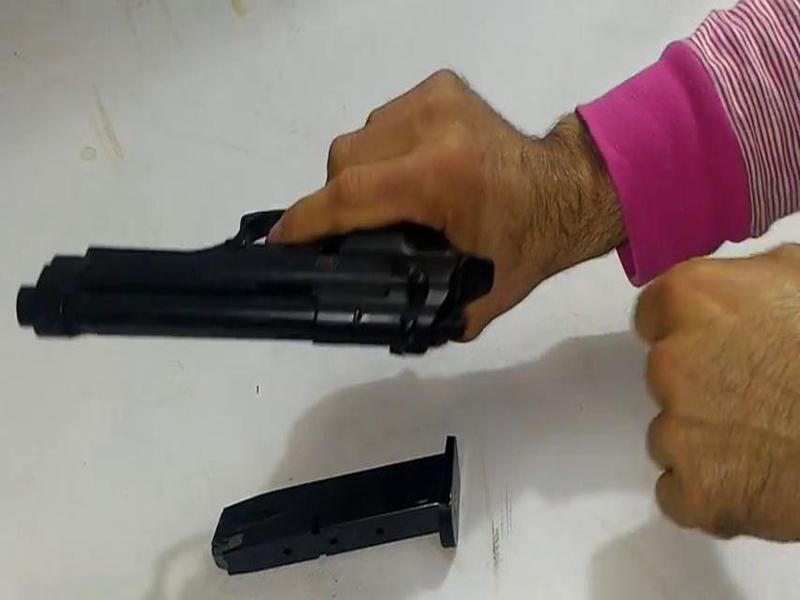Pistola: (31, 161, 528, 384)
